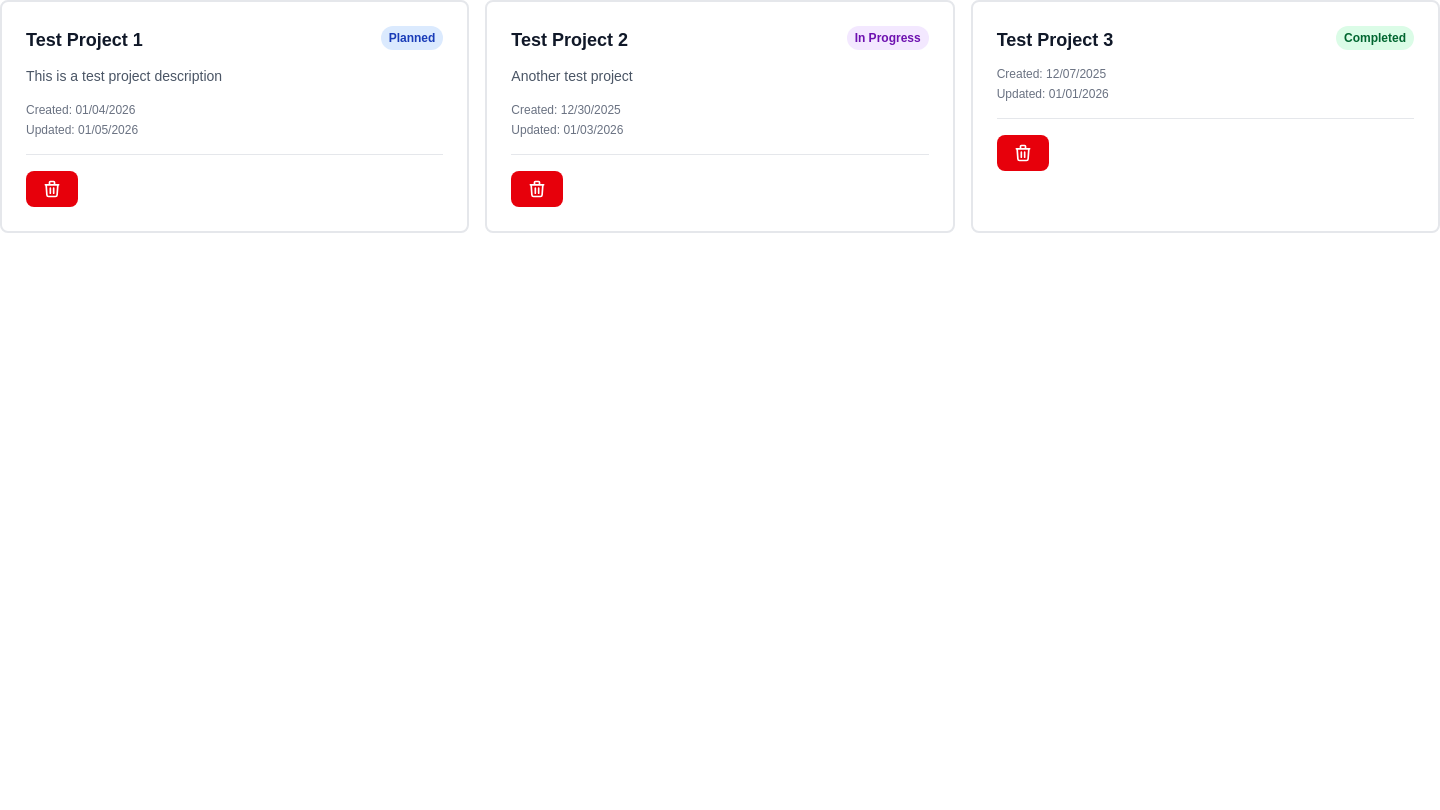
it: ProjectList › Project Deletion › does not navigate when delete button is clicked
Expected: the heading "Test Project 1" is shown, [26, 30, 143, 50]
Click the button named "delete project": (52, 189) [26, 171, 78, 207]
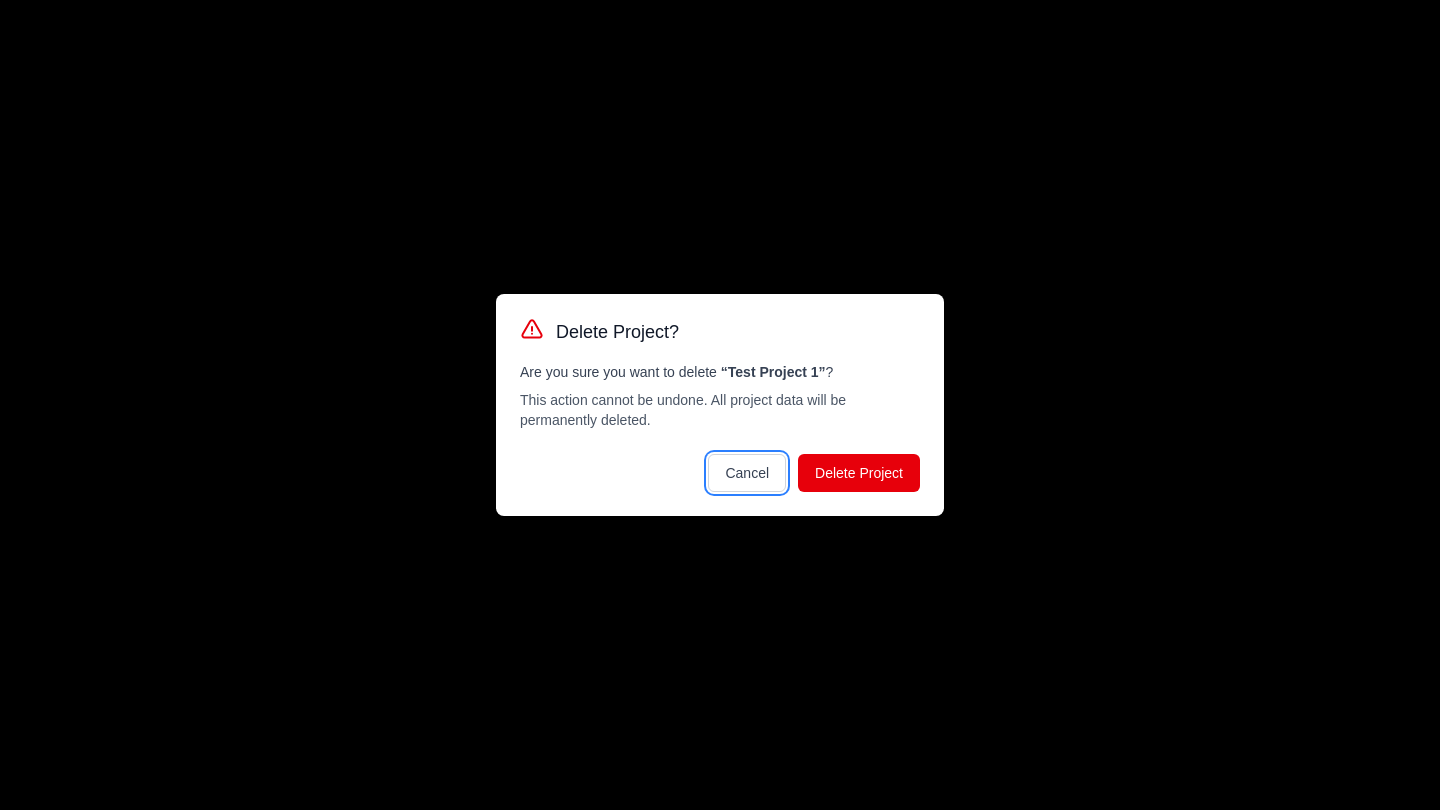
Expected: the heading "Delete Project?" is shown, [556, 322, 679, 342]
